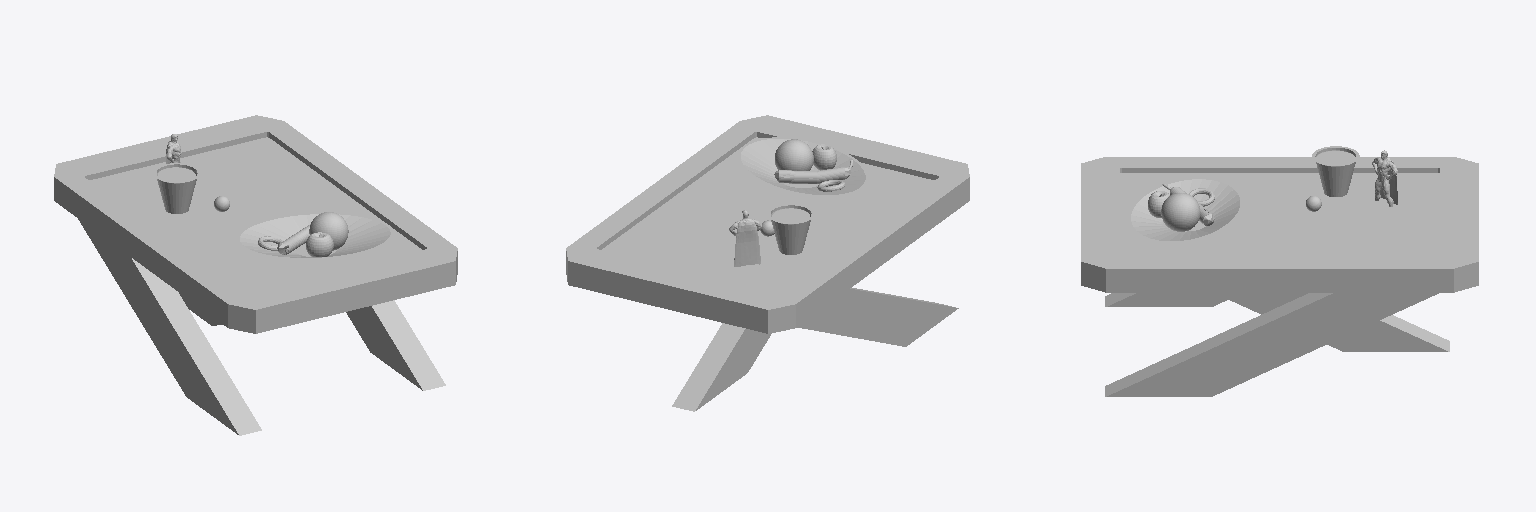
Rendered from stol.obj.
The picture shows the model from 3 angles: view 1: azimuth 30°, elevation 25°; view 2: azimuth 150°, elevation 25°; view 3: azimuth 270°, elevation 25°; orthographic projection.
Parts seen in each view (by area): view 1: stol, tarelka, stakan, orange, apple; view 2: stol, tarelka, stakan, orange, bansn, SuperMan; view 3: stol, tarelka, stakan, orange, SuperMan.
Boxes of the visible parts, box(x1,y1,x2,y2) form: stol: box(54, 115, 457, 435); tarelka: box(236, 213, 393, 258); stakan: box(153, 163, 200, 213); orange: box(309, 212, 348, 250); apple: box(306, 232, 333, 256); stol: box(566, 115, 969, 411); tarelka: box(737, 137, 868, 196); stakan: box(767, 204, 814, 254); orange: box(775, 139, 813, 170); bansn: box(774, 160, 852, 183); SuperMan: box(729, 210, 761, 259); stol: box(1081, 157, 1478, 396); tarelka: box(1128, 178, 1243, 242); stakan: box(1312, 146, 1359, 196); orange: box(1161, 193, 1199, 231); SuperMan: box(1372, 150, 1397, 206).
Size of the model in its own units: 4 by 3.02 by 6.01.